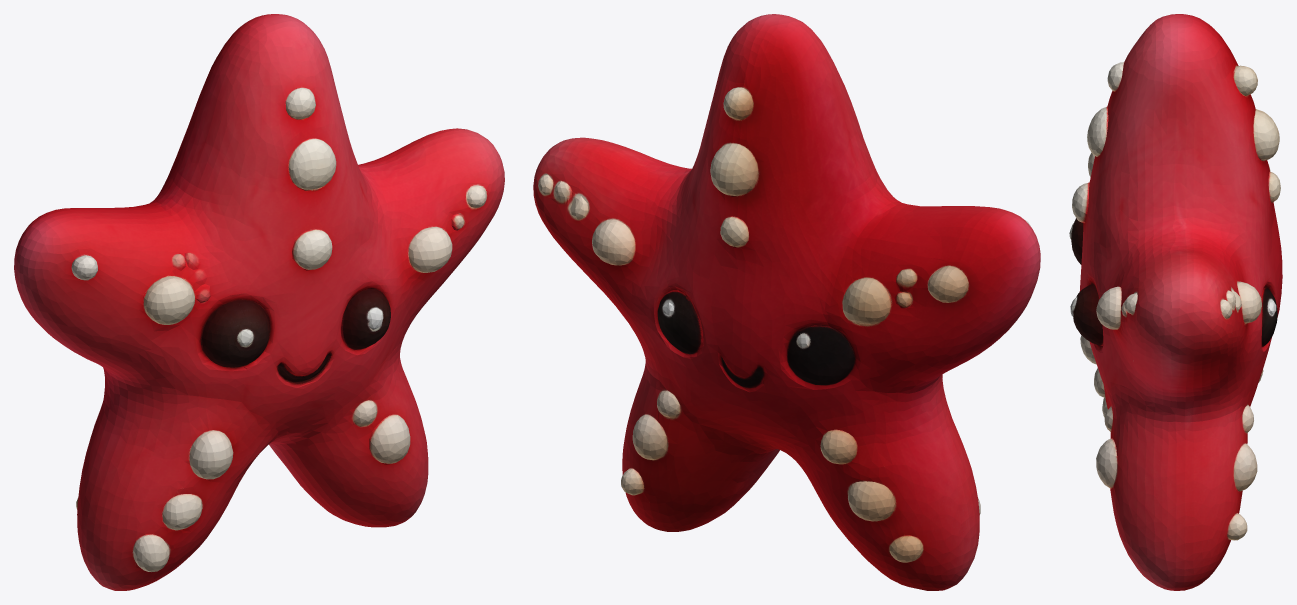
Rendered from starbit_raw.glb.
3 views of the same model, side by side, from view 1: azimuth 30°, elevation 25°; view 2: azimuth 150°, elevation 25°; view 3: azimuth 270°, elevation 25° (orthographic). The views are drawn at different scales.
Parts seen in each view (by area): view 1: world; view 2: world; view 3: world.
Part boxes in pixels (left/top/right/bottom): world: left=14, top=14, right=504, bottom=590; world: left=533, top=14, right=1040, bottom=590; world: left=1069, top=14, right=1282, bottom=590.
Size of the model in its own units: 0.9584 by 1 by 0.3754.
Materials: 1 (1 with a texture image).
